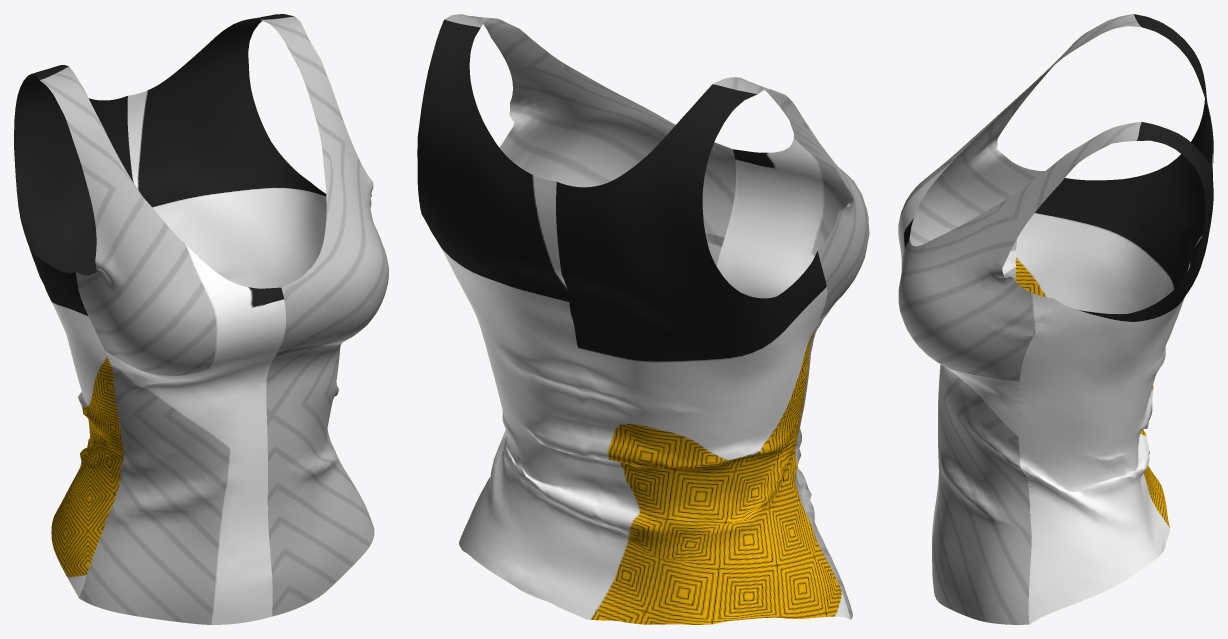
File: Quad.fbx
3 renders of one model, left to right at view 1: azimuth 30°, elevation 25°; view 2: azimuth 150°, elevation 25°; view 3: azimuth 270°, elevation 25°, orthographic. The views are drawn at different scales.
Parts seen in each view (by area): view 1: Quad; view 2: Quad; view 3: Quad.
Part boxes in pixels (bbox=[...]): Quad: bbox=[14, 14, 388, 624]; Quad: bbox=[417, 14, 869, 624]; Quad: bbox=[898, 14, 1213, 624].
Size of the model in its own units: 29.99 by 48.41 by 27.32.
